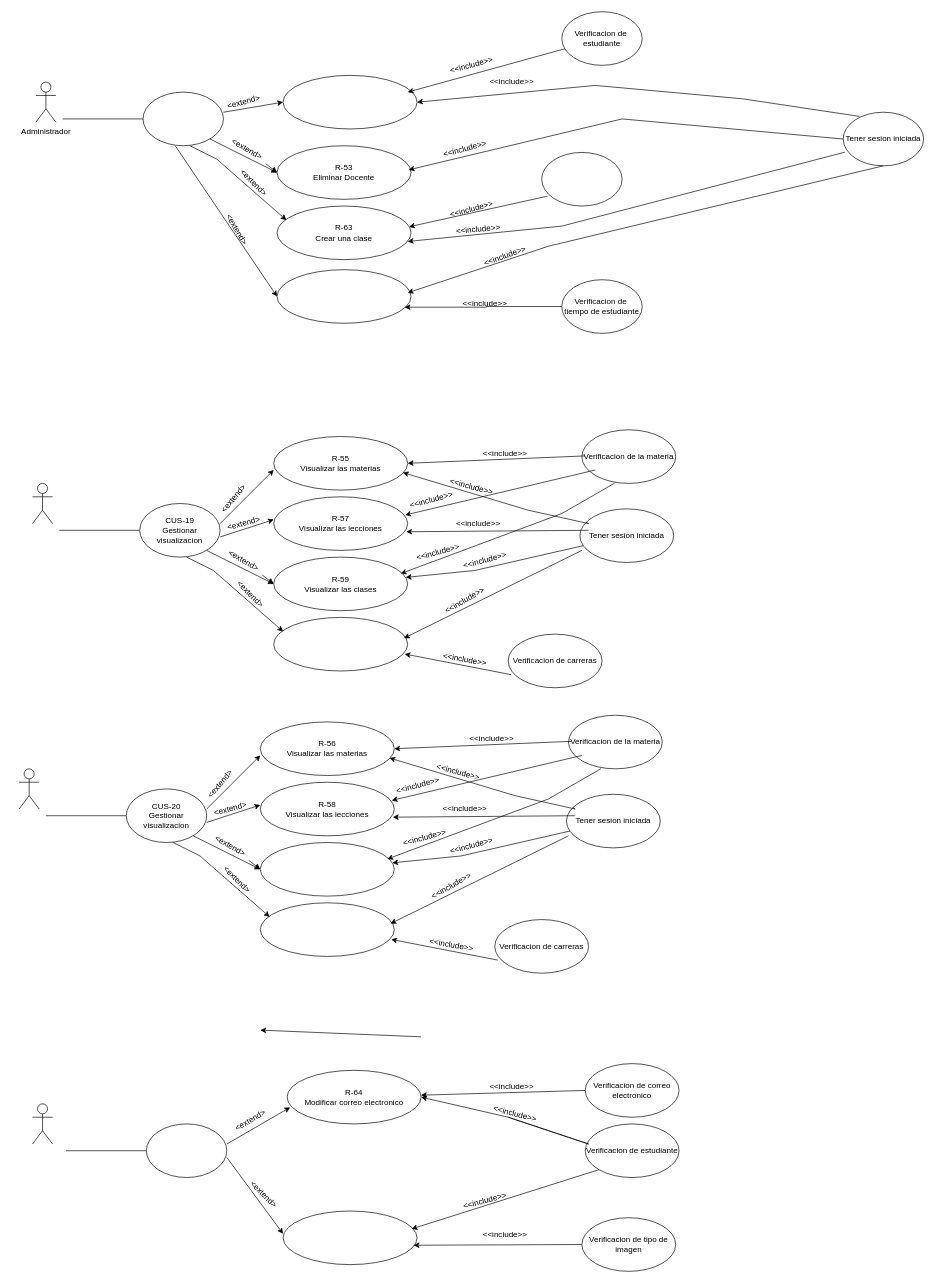
The diagram is 935 pixels wide and 1283 high, and some of its shapes have lost their labels. The centre of each missing label's shape, as x and y in pixels:
"CUS-18 Gestionar Clase" goes at point 182,118.
"CUS-21 Gestionar visualizacion" goes at point 186,1150.
"Estudiante" goes at point 42,1123.
"Jefe de Area" goes at point 42,503.
"Preceptor" goes at point 28,788.
"R-51 Eliminar estudiante" goes at point 349,102.
"R-54 Eliminar estudiantes en determinado tiempo" goes at point 343,296.
"R-60 Visualizar las clases" goes at point 327,869.
"R-61 Consultar las carreras" goes at point 340,644.
"R-62 Consultar las carreras" goes at point 327,929.
"R-65 Modificar foto de perfil" goes at point 349,1237.
"Verificacion de carrera" goes at point 581,179.
